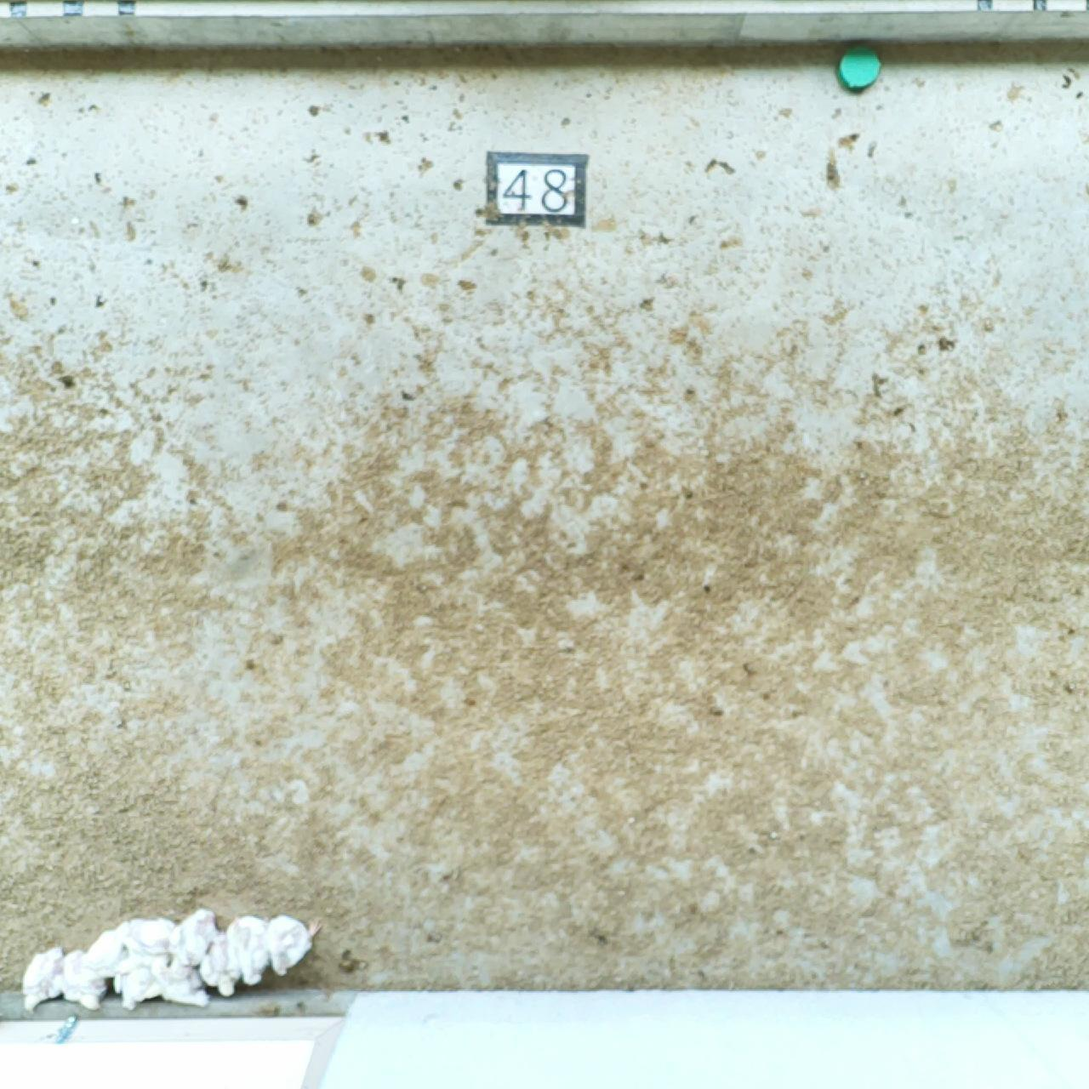chicken: (166, 906, 224, 972), (14, 948, 72, 1011), (225, 915, 275, 985), (117, 915, 189, 962), (53, 952, 112, 1009), (268, 916, 322, 978), (111, 965, 179, 1008), (203, 933, 245, 1000), (149, 966, 218, 1005), (83, 932, 143, 972)
